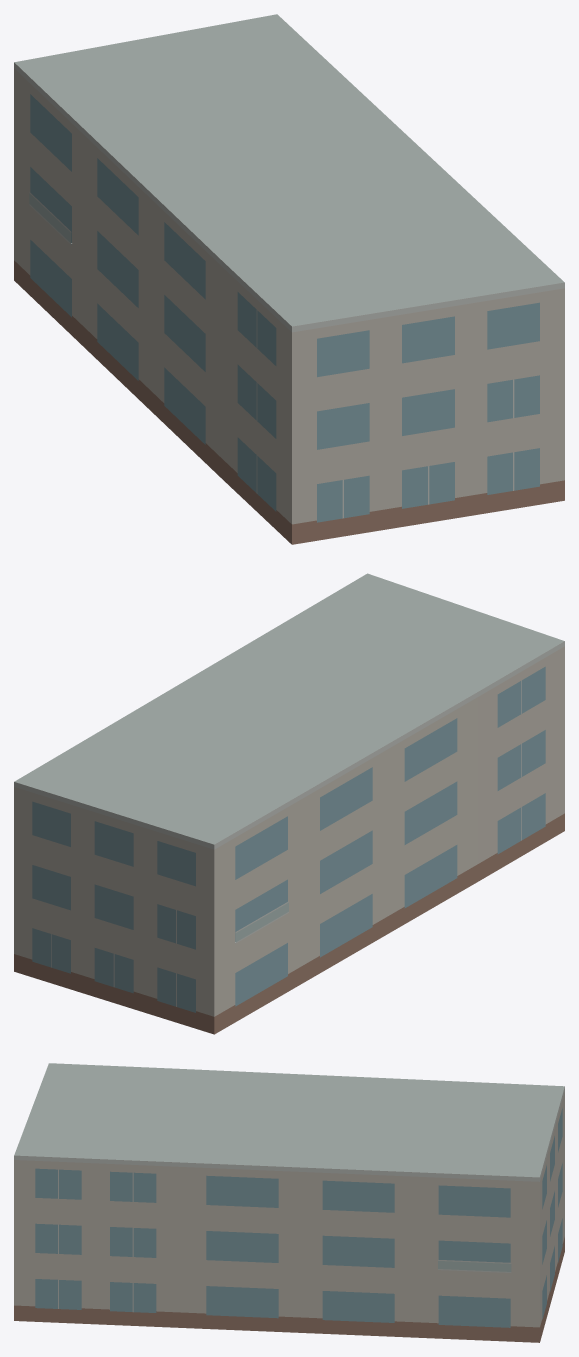
Rendered from survey-upis-32624993.glb.
The picture shows the model from 3 angles, top to bottom: view 1: azimuth 30°, elevation 25°; view 2: azimuth 150°, elevation 25°; view 3: azimuth 270°, elevation 25°; orthographic projection. The views are drawn at different scales.
Visible parts, largest first — view 1: survey-upis-32624993.tmp; view 2: survey-upis-32624993.tmp; view 3: survey-upis-32624993.tmp.
Part boxes in pixels (x1=…): survey-upis-32624993.tmp: x1=14, y1=14, x2=564, y2=544; survey-upis-32624993.tmp: x1=14, y1=573, x2=564, y2=1034; survey-upis-32624993.tmp: x1=14, y1=1063, x2=564, y2=1342.
Bounding box in the file's own units: 13.58 × 9.15 × 27.63.
